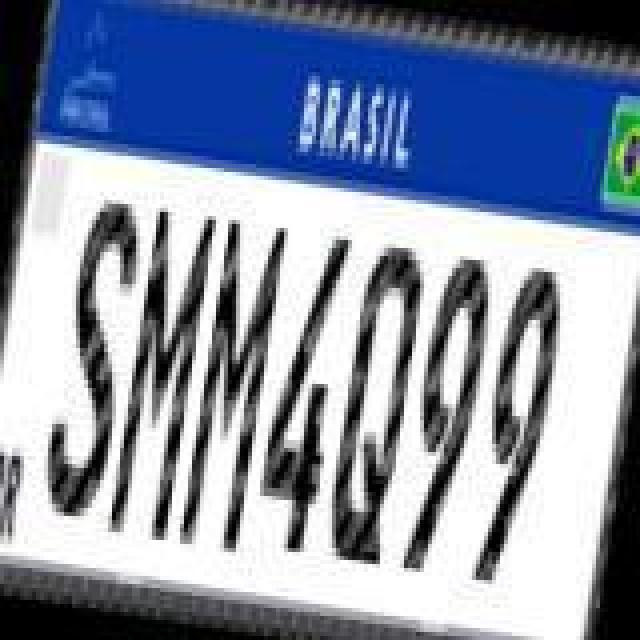4: (248, 226, 360, 558)
9: (460, 254, 572, 594), (392, 244, 504, 580)
M: (174, 212, 290, 556), (102, 206, 218, 546)
Q: (318, 232, 434, 568)
S: (38, 186, 154, 526)
